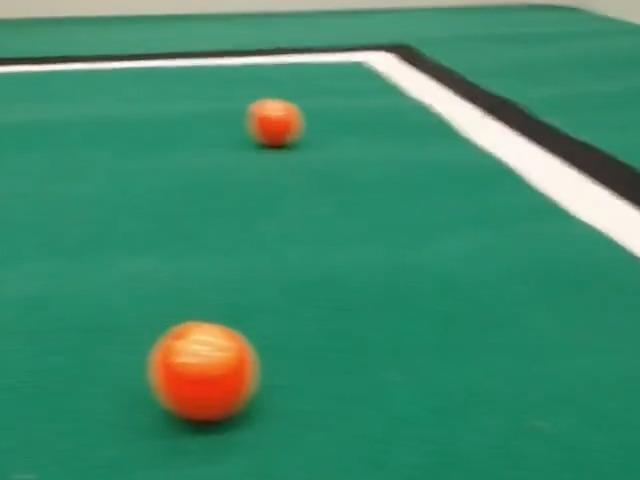Ball: (147, 321, 258, 422), (246, 98, 304, 147)
